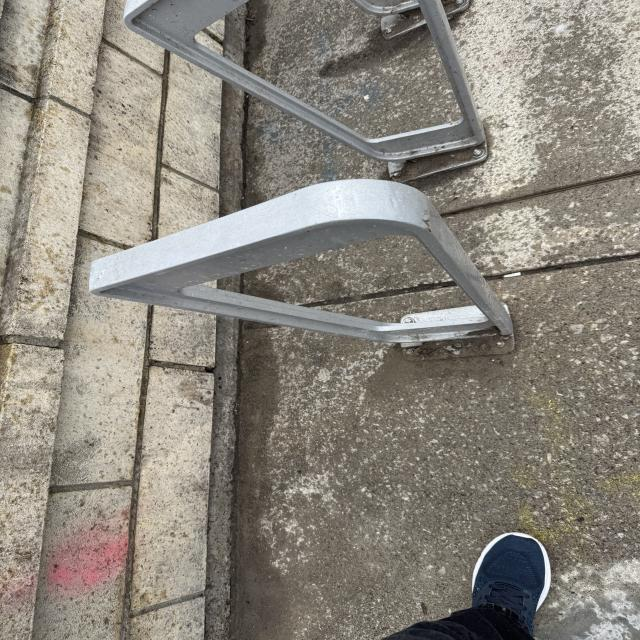Bicycle Rack: (85, 179, 509, 352), (113, 0, 495, 169)
